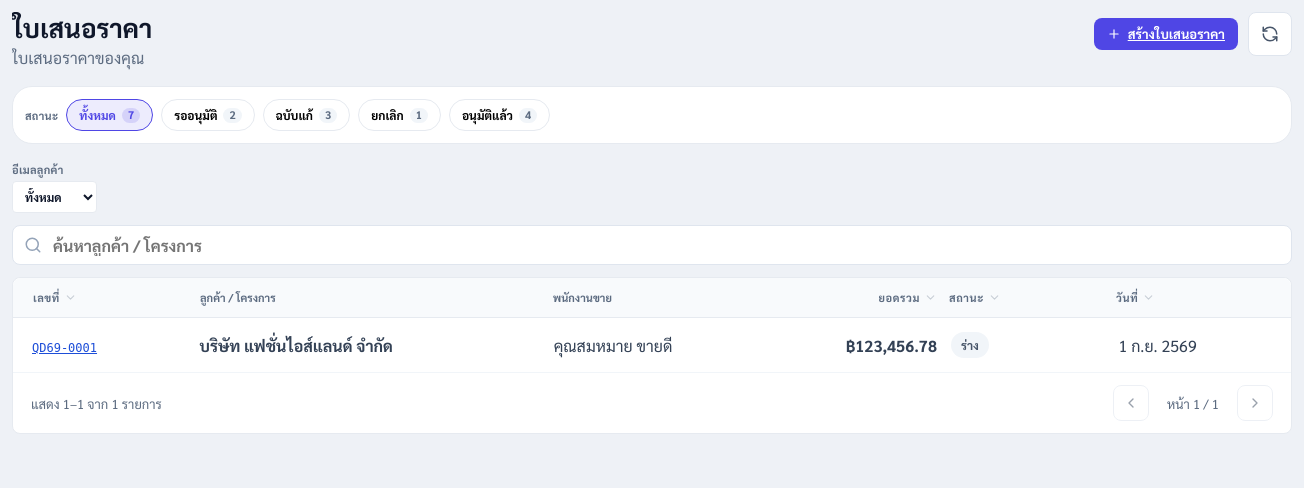
Scenario: QuotationListPage › drives the อนุมัติแล้ว tab off every approved-and-beyond status, keeping ?status=APPROVED in the URL
Expected: the text "QD69-0001" is shown, [32,341,97,355]
Step 1. Click the tab "อนุมัติแล้ว 4" → (500, 115), box [449,99,550,131]
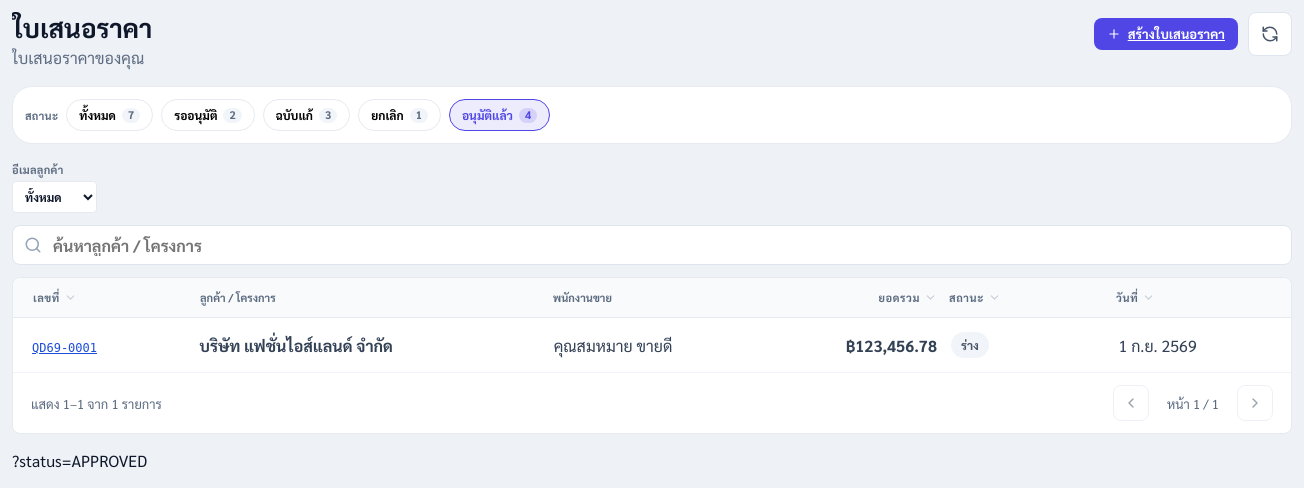
Result: the text with test id "location-search" reads "?status=APPROVED" at [12,450,147,471]
